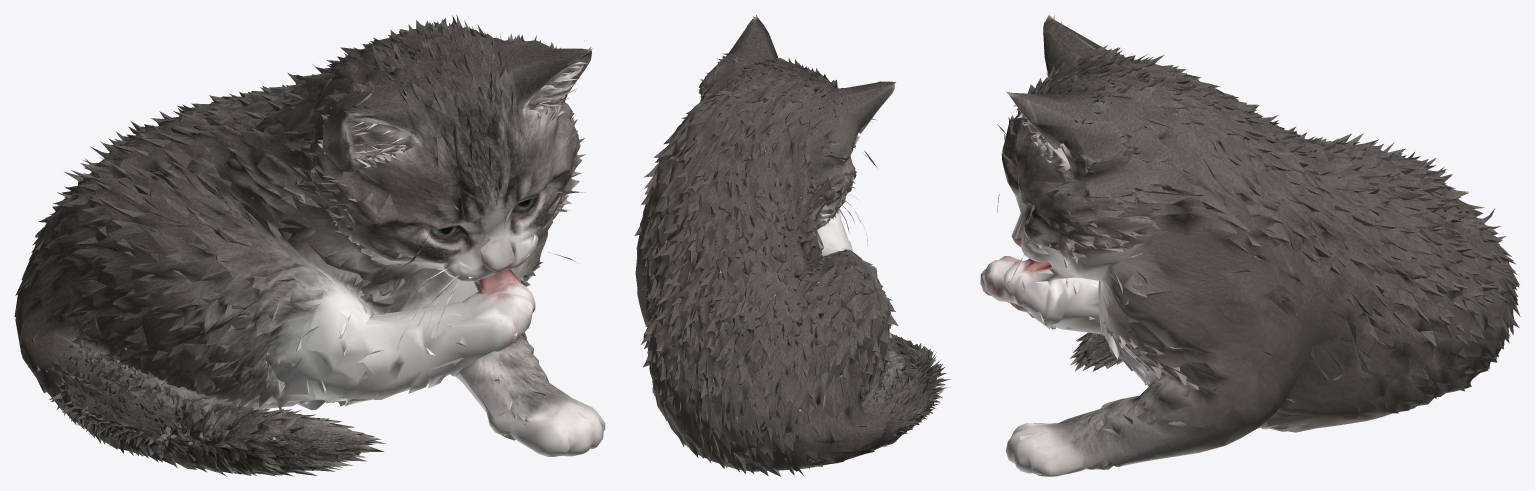
File: MunchkinLick.fbx
3 views of the same model, side by side, from view 1: azimuth 30°, elevation 25°; view 2: azimuth 150°, elevation 25°; view 3: azimuth 270°, elevation 25° (orthographic). The views are drawn at different scales.
Parts seen in each view (by area): view 1: Mesh_0; view 2: Mesh_0; view 3: Mesh_0.
Part boxes in pixels (bbox=[...]): Mesh_0: bbox=[14, 14, 605, 476]; Mesh_0: bbox=[634, 15, 950, 476]; Mesh_0: bbox=[980, 14, 1520, 476].
Bounding box in the file's own units: 155 × 141 × 184.
Materials: 1 (1 with a texture image).
